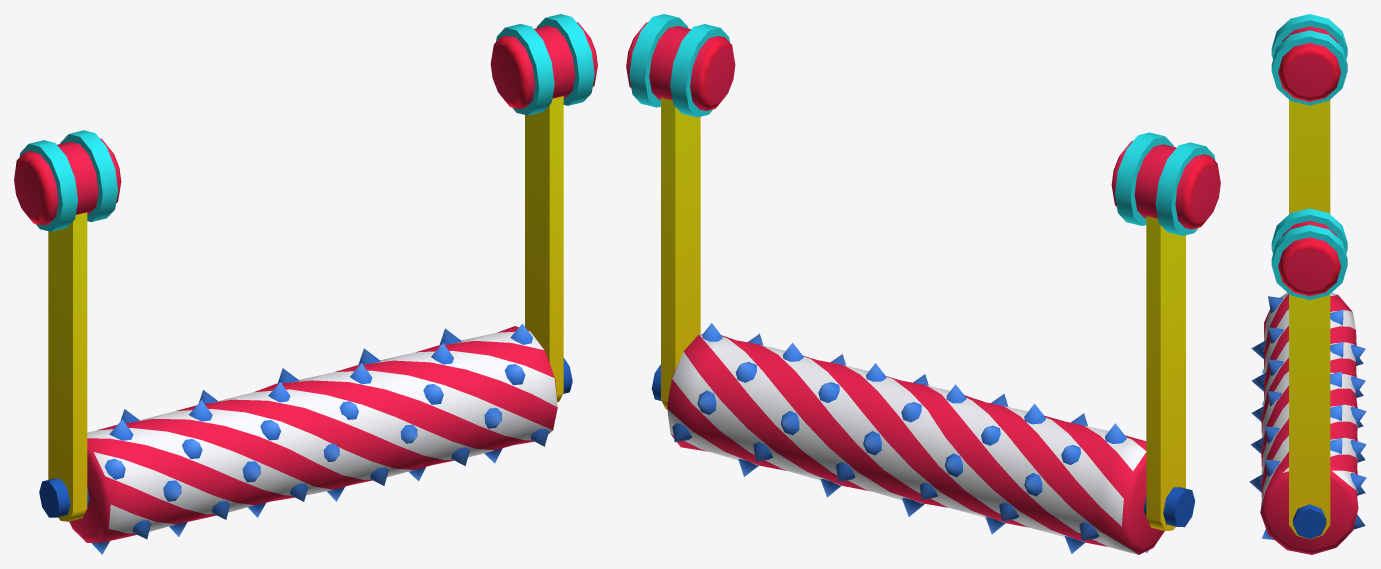
The model's file is obstacle_4_001.glb.
3 views of the same model, side by side, from view 1: azimuth 30°, elevation 25°; view 2: azimuth 150°, elevation 25°; view 3: azimuth 270°, elevation 25° (orthographic). The views are drawn at different scales.
Visible parts, largest first — view 1: obstacle_4_002, obstacle_4_001; view 2: obstacle_4_002, obstacle_4_001; view 3: obstacle_4_001, obstacle_4_002.
Boxes of the visible parts, left/top/right/bottom form: obstacle_4_002: left=69, top=323, right=557, bottom=554; obstacle_4_001: left=14, top=14, right=597, bottom=521; obstacle_4_002: left=667, top=323, right=1164, bottom=554; obstacle_4_001: left=626, top=14, right=1220, bottom=530; obstacle_4_001: left=1271, top=14, right=1347, bottom=539; obstacle_4_002: left=1249, top=292, right=1366, bottom=554.
Bounding box in the file's own units: 7.08 × 5.12 × 1.55.
Materials: 1 (1 with a texture image).
